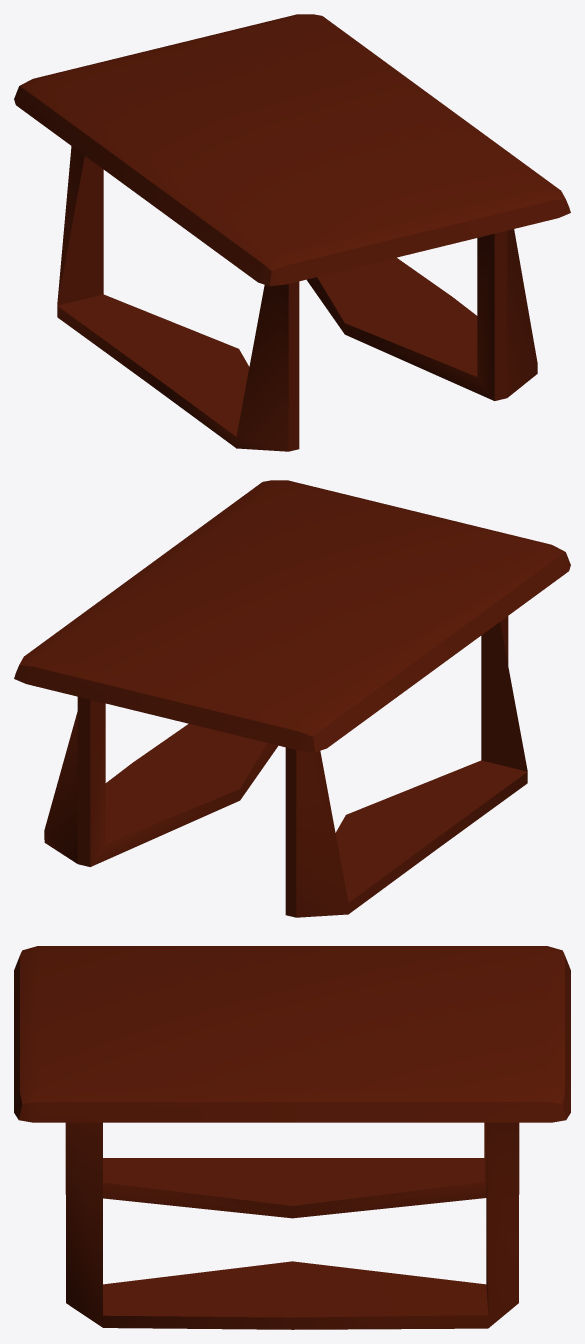
Rendered from Table2.fbx.
3 views of the same model, one above another, from view 1: azimuth 30°, elevation 25°; view 2: azimuth 150°, elevation 25°; view 3: azimuth 270°, elevation 25° (orthographic). The views are drawn at different scales.
Parts seen in each view (by area): view 1: Box163; view 2: Box163; view 3: Box163.
Boxes of the visible parts, x1,y1,x2,y2 form: Box163: (14, 14, 570, 451); Box163: (14, 480, 570, 917); Box163: (14, 946, 570, 1329).
Bounding box in the file's own units: 54.04 × 34.98 × 77.24.
